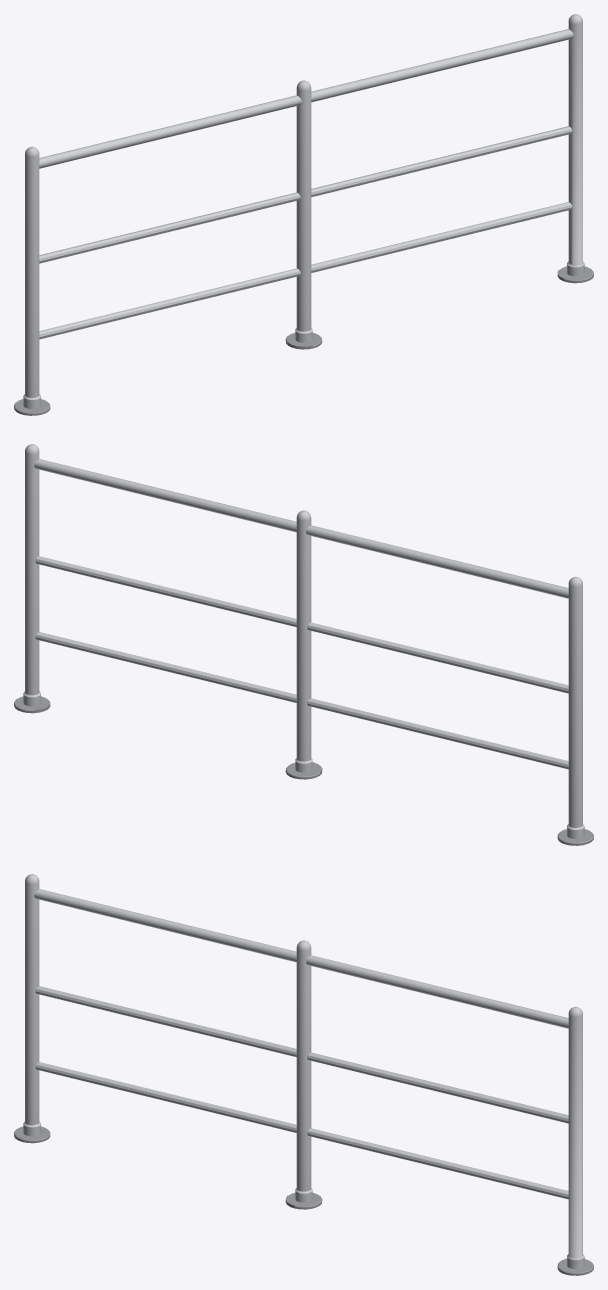
The model's file is gteki_barrier_rail_2400_rails.glb.
The picture shows the model from 3 angles, top to bottom: view 1: azimuth 30°, elevation 25°; view 2: azimuth 150°, elevation 25°; view 3: azimuth 330°, elevation 25°; orthographic projection.
Parts seen in each view (by area): view 1: VIS_rails, VIS_posts; view 2: VIS_rails, VIS_posts; view 3: VIS_rails, VIS_posts.
Boxes of the visible parts, <box> form: VIS_rails: <box>39,29,573,339</box>; VIS_posts: <box>14,14,593,415</box>; VIS_rails: <box>34,459,568,769</box>; VIS_posts: <box>14,444,593,845</box>; VIS_rails: <box>34,889,568,1199</box>; VIS_posts: <box>14,874,593,1275</box>.
Size of what is drawn, in the model's own units: 2.54 by 1.1 by 0.14.
2 materials, 1 textured.
